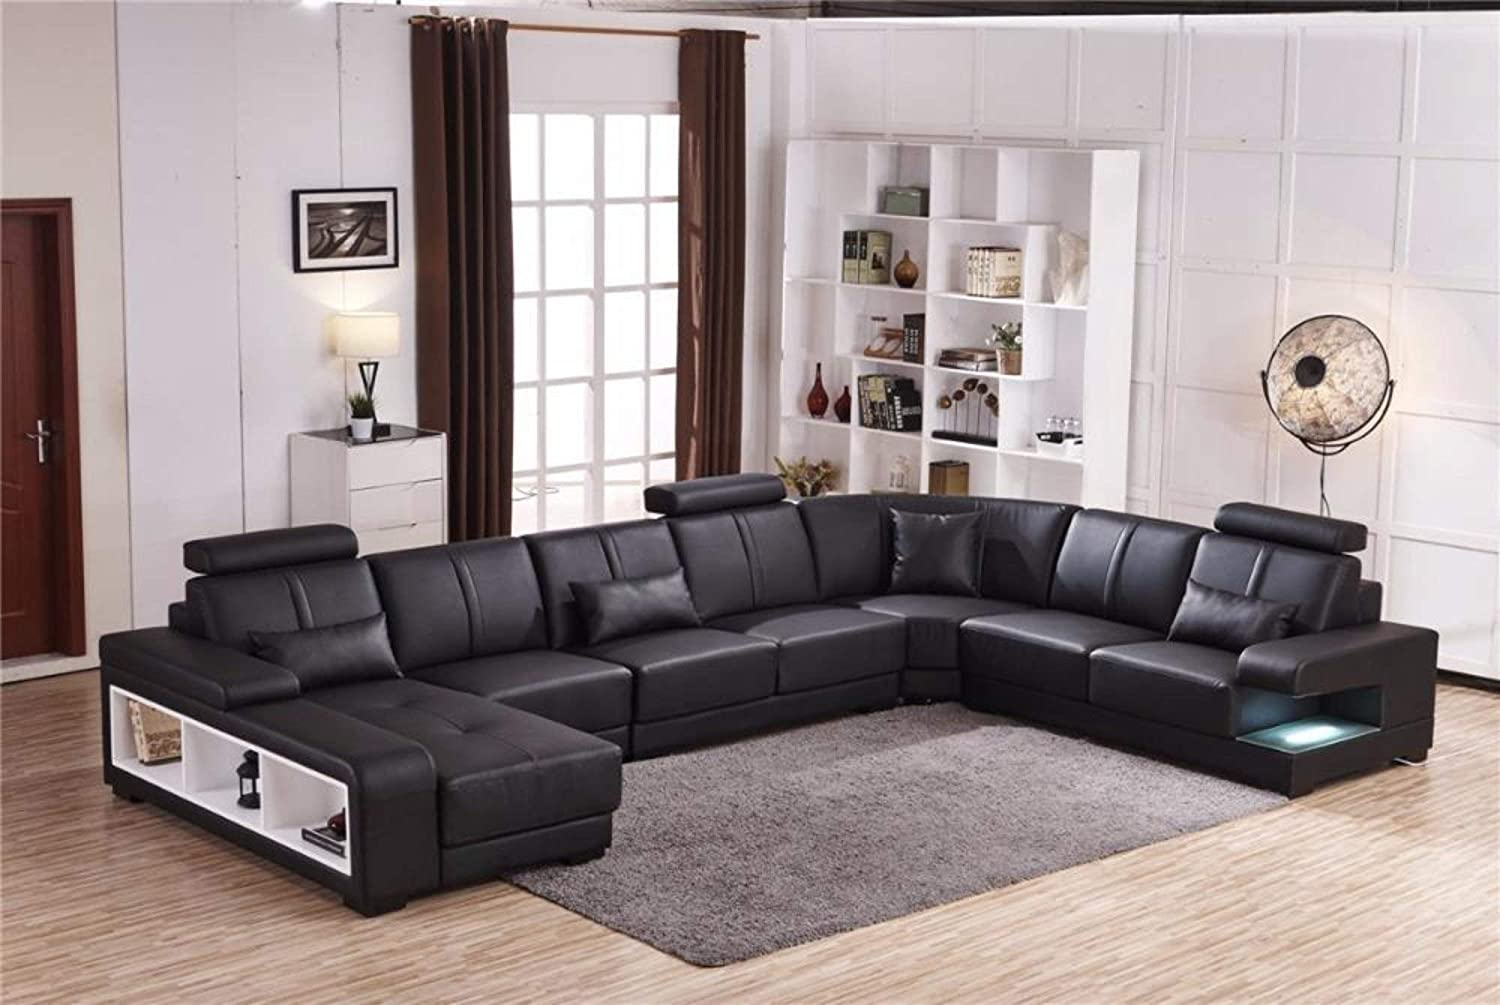bantal: (1172, 581, 1285, 651), (274, 621, 400, 683), (891, 504, 973, 596), (576, 575, 698, 629)
buku: (963, 241, 1019, 301), (859, 371, 916, 428), (845, 225, 890, 286)
lampu: (333, 310, 406, 431)
lukisan: (290, 179, 401, 273)
sova: (105, 478, 1441, 885)
tanaman: (343, 393, 378, 439)
